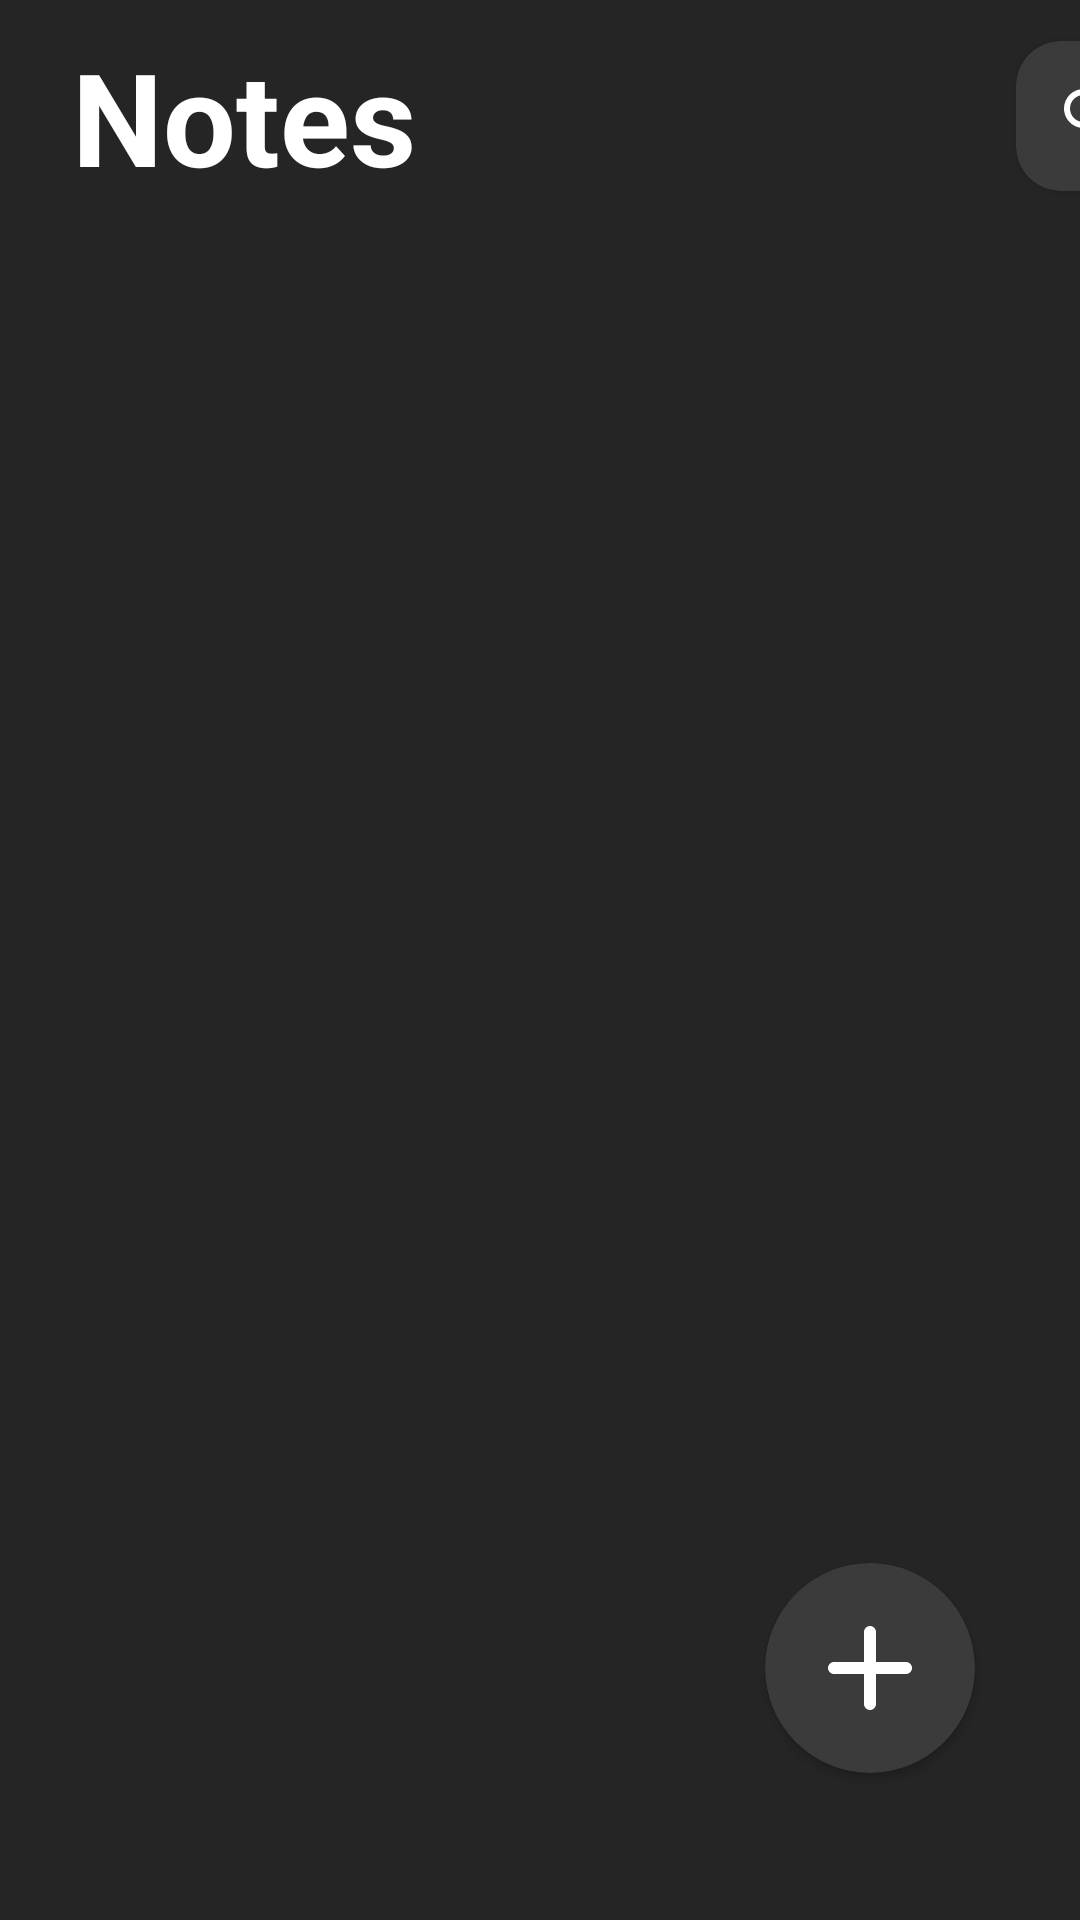

Named icons in this screenshot (1080px x 1920px) and their bounding boxes, (left=x1, top=y1, right=x2, bottom=y2):
plus: (left=828, top=1626, right=912, bottom=1710)
